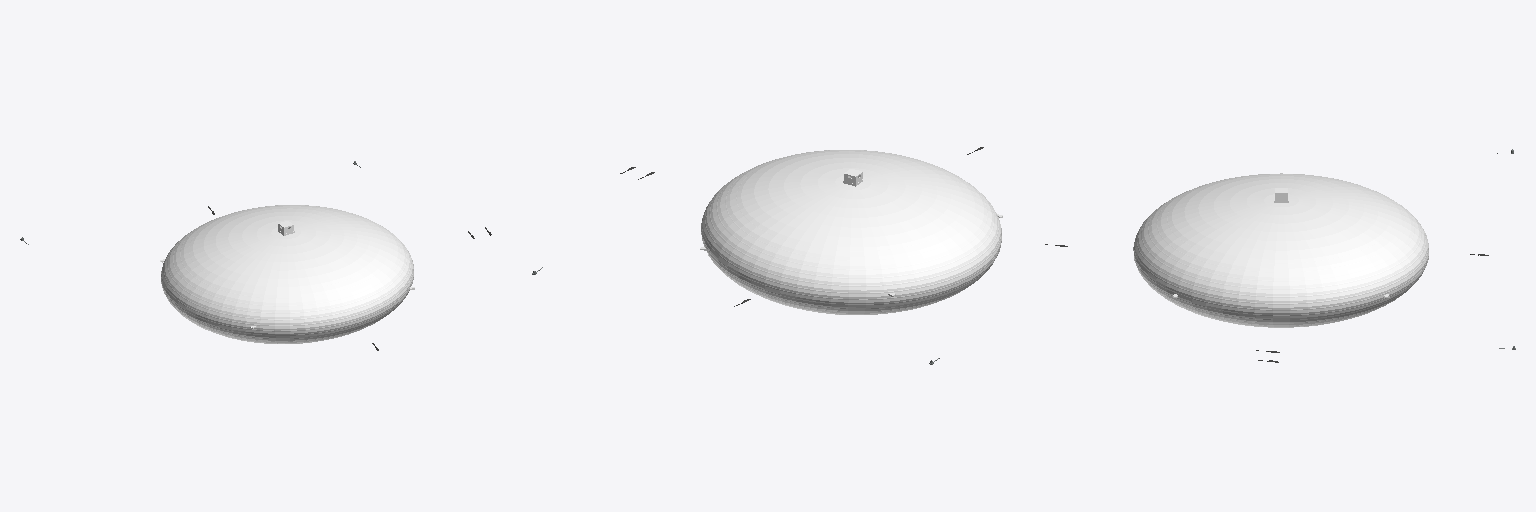
URDF robot description (Full assembly Draft 2):
<?xml version="1.0" encoding="utf-8"?>
<!-- This URDF was automatically created by SolidWorks to URDF Exporter! Originally created by [author] ([email redacted]) 
     Commit Version: 1.4.2-27-gc3b3358  Build Version: 1.4.6891.25992
     For more information, please see http://wiki.ros.org/sw_urdf_exporter -->
<robot
  name="Full assembly Draft 2">
  <link
    name="envolope and servos">
    <inertial>
      <origin
        xyz="-0.00021282 0.0067764 -0.00062377"
        rpy="0 0 0" />
      <mass
        value="16.899" />
      <inertia
        ixx="10.748"
        ixy="-0.22102"
        ixz="0.00011007"
        iyy="17.79"
        iyz="-0.0034384"
        izz="10.741" />
    </inertial>
    <visual>
      <origin
        xyz="0 0 0"
        rpy="0 0 0" />
      <geometry>
        <mesh
          filename="package://Full assembly Draft 2/meshes/envolope and servos.STL" />
      </geometry>
      <material
        name="">
        <color
          rgba="1 1 1 1" />
      </material>
    </visual>
    <collision>
      <origin
        xyz="0 0 0"
        rpy="0 0 0" />
      <geometry>
        <mesh
          filename="package://Full assembly Draft 2/meshes/envolope and servos.STL" />
      </geometry>
    </collision>
  </link>
  <link
    name="motor 1">
    <inertial>
      <origin
        xyz="6.3353E-05 0.0022493 -0.021222"
        rpy="0 0 0" />
      <mass
        value="0.053823" />
      <inertia
        ixx="7.1796E-05"
        ixy="2.4004E-08"
        ixz="2.8141E-11"
        iyy="7.2679E-05"
        iyz="1.2772E-09"
        izz="1.4986E-06" />
    </inertial>
    <visual>
      <origin
        xyz="0 0 0"
        rpy="0 0 0" />
      <geometry>
        <mesh
          filename="package://Full assembly Draft 2/meshes/motor 1.STL" />
      </geometry>
      <material
        name="">
        <color
          rgba="0.52941 0.54902 0.54902 1" />
      </material>
    </visual>
    <collision>
      <origin
        xyz="0 0 0"
        rpy="0 0 0" />
      <geometry>
        <mesh
          filename="package://Full assembly Draft 2/meshes/motor 1.STL" />
      </geometry>
    </collision>
  </link>
  <joint
    name="motor 1"
    type="revolute">
    <origin
      xyz="1.1028 0.98494 0"
      rpy="-1.5708 0.027437 1.5708" />
    <parent
      link="envolope and servos" />
    <child
      link="motor 1" />
    <axis
      xyz="0 0 0" />
    <limit
      lower="0"
      upper="0"
      effort="0"
      velocity="0" />
    <safety_controller
      k_velocity="0" />
  </joint>
  <link
    name="prop 1">
    <inertial>
      <origin
        xyz="0.00500001332709954 0.00494704835279746 0.0038000561089766"
        rpy="0 0 0" />
      <mass
        value="0.0055645119651105" />
      <inertia
        ixx="1.91129254172353E-05"
        ixy="1.00332940886986E-12"
        ixz="3.42742133834009E-06"
        iyy="1.9853848452093E-05"
        iyz="3.19591035590804E-13"
        izz="7.79561279244904E-07" />
    </inertial>
    <visual>
      <origin
        xyz="0 0 0"
        rpy="0 0 0" />
      <geometry>
        <mesh
          filename="package://Full assembly Draft 2/meshes/prop 1.STL" />
      </geometry>
      <material
        name="">
        <color
          rgba="0.294117647058824 0.294117647058824 0.294117647058824 1" />
      </material>
    </visual>
    <collision>
      <origin
        xyz="0 0 0"
        rpy="0 0 0" />
      <geometry>
        <mesh
          filename="package://Full assembly Draft 2/meshes/prop 1.STL" />
      </geometry>
    </collision>
  </link>
  <joint
    name="prop 1"
    type="revolute">
    <origin
      xyz="-0.0025421 0.02597 -0.060428"
      rpy="3.1416 1.4655 3.1142" />
    <parent
      link="motor 1" />
    <child
      link="prop 1" />
    <axis
      xyz="0 0 0" />
    <limit
      lower="0"
      upper="0"
      effort="0"
      velocity="0" />
    <safety_controller
      k_velocity="0" />
  </joint>
  <link
    name="motor 2">
    <inertial>
      <origin
        xyz="6.33527294978675E-05 0.00224925346662147 -0.0212220651479016"
        rpy="0 0 0" />
      <mass
        value="0.0538230212132089" />
      <inertia
        ixx="7.17960825831187E-05"
        ixy="2.40037545371338E-08"
        ixz="2.81405053270485E-11"
        iyy="7.26788311544435E-05"
        iyz="1.27719102126626E-09"
        izz="1.49862701447954E-06" />
    </inertial>
    <visual>
      <origin
        xyz="0 0 0"
        rpy="0 0 0" />
      <geometry>
        <mesh
          filename="package://Full assembly Draft 2/meshes/motor 2.STL" />
      </geometry>
      <material
        name="">
        <color
          rgba="0.529411764705882 0.549019607843137 0.549019607843137 1" />
      </material>
    </visual>
    <collision>
      <origin
        xyz="0 0 0"
        rpy="0 0 0" />
      <geometry>
        <mesh
          filename="package://Full assembly Draft 2/meshes/motor 2.STL" />
      </geometry>
    </collision>
  </link>
  <joint
    name="motor 2"
    type="revolute">
    <origin
      xyz="1.1028 -0.97319 0"
      rpy="-1.5708 0.027437 1.5708" />
    <parent
      link="envolope and servos" />
    <child
      link="motor 2" />
    <axis
      xyz="0 0 0" />
    <limit
      lower="0"
      upper="0"
      effort="0"
      velocity="0" />
    <safety_controller
      k_velocity="0" />
  </joint>
  <link
    name="prop 2">
    <inertial>
      <origin
        xyz="0.00499999938084139 0.00494705342676535 0.00380006497191665"
        rpy="0 0 0" />
      <mass
        value="0.00556449705813733" />
      <inertia
        ixx="1.91129252285039E-05"
        ixy="8.54727779509433E-13"
        ixz="3.42742104217454E-06"
        iyy="1.98538479618724E-05"
        iyz="4.30763082650705E-13"
        izz="7.79560871279399E-07" />
    </inertial>
    <visual>
      <origin
        xyz="0 0 0"
        rpy="0 0 0" />
      <geometry>
        <mesh
          filename="package://Full assembly Draft 2/meshes/prop 2.STL" />
      </geometry>
      <material
        name="">
        <color
          rgba="0.294117647058824 0.294117647058824 0.294117647058824 1" />
      </material>
    </visual>
    <collision>
      <origin
        xyz="0 0 0"
        rpy="0 0 0" />
      <geometry>
        <mesh
          filename="package://Full assembly Draft 2/meshes/prop 2.STL" />
      </geometry>
    </collision>
  </link>
  <joint
    name="prop 2"
    type="revolute">
    <origin
      xyz="-0.0025421 0.02597 -0.060428"
      rpy="3.1416 1.4655 3.1142" />
    <parent
      link="motor 2" />
    <child
      link="prop 2" />
    <axis
      xyz="0 0 0" />
    <limit
      lower="0"
      upper="0"
      effort="0"
      velocity="0" />
    <safety_controller
      k_velocity="0" />
  </joint>
  <link
    name="motor 3">
    <inertial>
      <origin
        xyz="6.33527269739975E-05 0.00224925337465614 -0.0212220651479018"
        rpy="0 0 0" />
      <mass
        value="0.0538230212132085" />
      <inertia
        ixx="7.17960825831179E-05"
        ixy="2.40037545371345E-08"
        ixz="2.81405053211223E-11"
        iyy="7.26788311544428E-05"
        iyz="1.27719102124864E-09"
        izz="1.49862701447954E-06" />
    </inertial>
    <visual>
      <origin
        xyz="0 0 0"
        rpy="0 0 0" />
      <geometry>
        <mesh
          filename="package://Full assembly Draft 2/meshes/motor 3.STL" />
      </geometry>
      <material
        name="">
        <color
          rgba="0.529411764705882 0.549019607843137 0.549019607843137 1" />
      </material>
    </visual>
    <collision>
      <origin
        xyz="0 0 0"
        rpy="0 0 0" />
      <geometry>
        <mesh
          filename="package://Full assembly Draft 2/meshes/motor 3.STL" />
      </geometry>
    </collision>
  </link>
  <joint
    name="motor 3"
    type="revolute">
    <origin
      xyz="-1.1028 -0.98494 0"
      rpy="-1.5708 0.027437 -1.5708" />
    <parent
      link="envolope and servos" />
    <child
      link="motor 3" />
    <axis
      xyz="0 0 0" />
    <limit
      lower="0"
      upper="0"
      effort="0"
      velocity="0" />
    <safety_controller
      k_velocity="0" />
  </joint>
  <link
    name="prop 3">
    <inertial>
      <origin
        xyz="0.0049999992934382 0.00494705342616975 0.00380006584519799"
        rpy="0 0 0" />
      <mass
        value="0.00556449705283645" />
      <inertia
        ixx="1.91129252031325E-05"
        ixy="8.55016539282198E-13"
        ixz="3.42742103971084E-06"
        iyy="1.98538479362908E-05"
        iyz="4.27759556895875E-13"
        izz="7.79560871066394E-07" />
    </inertial>
    <visual>
      <origin
        xyz="0 0 0"
        rpy="0 0 0" />
      <geometry>
        <mesh
          filename="package://Full assembly Draft 2/meshes/prop 3.STL" />
      </geometry>
      <material
        name="">
        <color
          rgba="0.294117647058824 0.294117647058824 0.294117647058824 1" />
      </material>
    </visual>
    <collision>
      <origin
        xyz="0 0 0"
        rpy="0 0 0" />
      <geometry>
        <mesh
          filename="package://Full assembly Draft 2/meshes/prop 3.STL" />
      </geometry>
    </collision>
  </link>
  <joint
    name="prop 3"
    type="revolute">
    <origin
      xyz="-0.0025421 0.02597 -0.060428"
      rpy="3.1416 1.4655 3.1142" />
    <parent
      link="motor 3" />
    <child
      link="prop 3" />
    <axis
      xyz="0 0 0" />
    <limit
      lower="0"
      upper="0"
      effort="0"
      velocity="0" />
    <safety_controller
      k_velocity="0" />
  </joint>
  <link
    name="motor 4">
    <inertial>
      <origin
        xyz="6.33527269739975E-05 0.00224925337465613 -0.0212220651479023"
        rpy="0 0 0" />
      <mass
        value="0.0538230212132084" />
      <inertia
        ixx="7.17960825831179E-05"
        ixy="2.40037545371427E-08"
        ixz="2.81405053173399E-11"
        iyy="7.26788311544427E-05"
        iyz="1.27719102127323E-09"
        izz="1.49862701447954E-06" />
    </inertial>
    <visual>
      <origin
        xyz="0 0 0"
        rpy="0 0 0" />
      <geometry>
        <mesh
          filename="package://Full assembly Draft 2/meshes/motor 4.STL" />
      </geometry>
      <material
        name="">
        <color
          rgba="0.529411764705882 0.549019607843137 0.549019607843137 1" />
      </material>
    </visual>
    <collision>
      <origin
        xyz="0 0 0"
        rpy="0 0 0" />
      <geometry>
        <mesh
          filename="package://Full assembly Draft 2/meshes/motor 4.STL" />
      </geometry>
    </collision>
  </link>
  <joint
    name="motor 4"
    type="revolute">
    <origin
      xyz="-1.1028 0.97319 0"
      rpy="-1.5708 0.027437 -1.5708" />
    <parent
      link="envolope and servos" />
    <child
      link="motor 4" />
    <axis
      xyz="0 0 0" />
    <limit
      lower="0"
      upper="0"
      effort="0"
      velocity="0" />
    <safety_controller
      k_velocity="0" />
  </joint>
  <link
    name="prop 4">
    <inertial>
      <origin
        xyz="0.00499999935697137 0.00494705342402644 0.00380006517745568"
        rpy="0 0 0" />
      <mass
        value="0.00556449702603266" />
      <inertia
        ixx="1.91129250710684E-05"
        ixy="8.5480234917363E-13"
        ixz="3.42742102580877E-06"
        iyy="1.98538478027415E-05"
        iyz="4.30281018734455E-13"
        izz="7.79560869563914E-07" />
    </inertial>
    <visual>
      <origin
        xyz="0 0 0"
        rpy="0 0 0" />
      <geometry>
        <mesh
          filename="package://Full assembly Draft 2/meshes/prop 4.STL" />
      </geometry>
      <material
        name="">
        <color
          rgba="0.294117647058824 0.294117647058824 0.294117647058824 1" />
      </material>
    </visual>
    <collision>
      <origin
        xyz="0 0 0"
        rpy="0 0 0" />
      <geometry>
        <mesh
          filename="package://Full assembly Draft 2/meshes/prop 4.STL" />
      </geometry>
    </collision>
  </link>
  <joint
    name="prop 4"
    type="revolute">
    <origin
      xyz="-0.0025421 0.02597 -0.060428"
      rpy="3.1416 1.4655 3.1142" />
    <parent
      link="motor 4" />
    <child
      link="prop 4" />
    <axis
      xyz="0 0 0" />
    <limit
      lower="0"
      upper="0"
      effort="0"
      velocity="0" />
    <safety_controller
      k_velocity="0" />
  </joint>
</robot>

--- Render facts (derived) ---
Views: 3 orthographic renders of the robot side by side, from view 1: azimuth 30°, elevation 25°; view 2: azimuth 150°, elevation 25°; view 3: azimuth 270°, elevation 25°.
Robot: Full assembly Draft 2 — 9 links, 8 joints (8 revolute); root link envolope and servos; default pose: every joint at zero.
Links seen in each view (by area): view 1: envolope and servos; view 2: envolope and servos; view 3: envolope and servos.
Link boxes in pixels (x1=…): envolope and servos: x1=160, y1=205, x2=414, y2=343; envolope and servos: x1=700, y1=150, x2=1002, y2=314; envolope and servos: x1=1133, y1=173, x2=1428, y2=327.
Bounding box of the posed robot: 4.55 × 4.36 × 1.12 m (x, y, z).
9 mesh visuals loaded from 9 distinct referenced files (9 binary STL).
